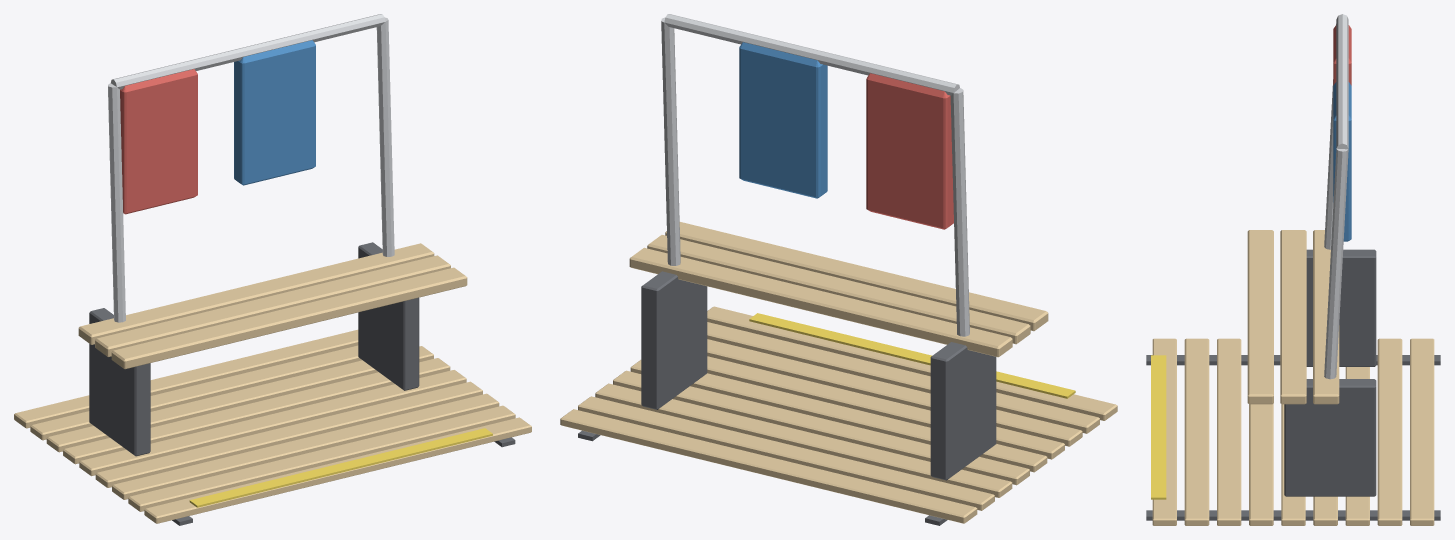
File: public-swimming-baths-and-poolside-drying-area-bench-b9ef99fc__35268.glb
3 views of the same model, side by side, from view 1: azimuth 30°, elevation 25°; view 2: azimuth 150°, elevation 25°; view 3: azimuth 270°, elevation 25° (orthographic). The views are drawn at different scales.
Parts seen in each view (by area): view 1: drying-area-bench; view 2: drying-area-bench; view 3: drying-area-bench.
Boxes of the visible parts, x1,y1,x2,y2 form: drying-area-bench: [14, 14, 531, 525]; drying-area-bench: [560, 14, 1117, 525]; drying-area-bench: [1146, 14, 1440, 525].
Bounding box in the file's own units: 1.4 × 1.3 × 0.9601.
